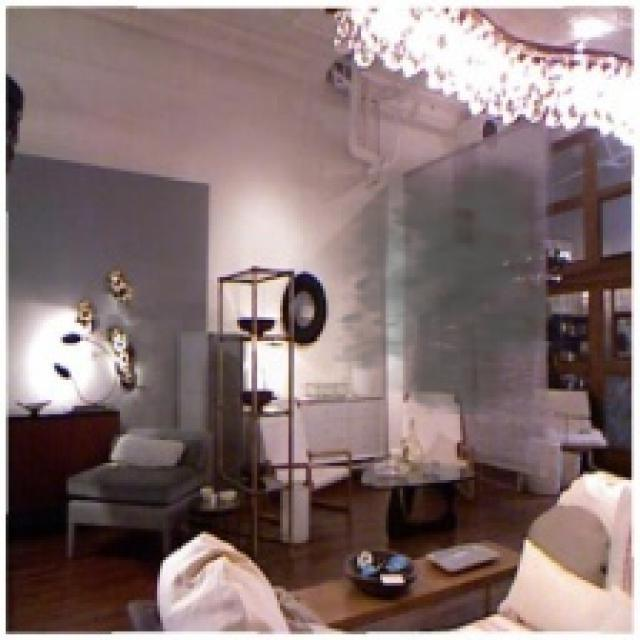Smoke: (306, 148, 574, 414)
